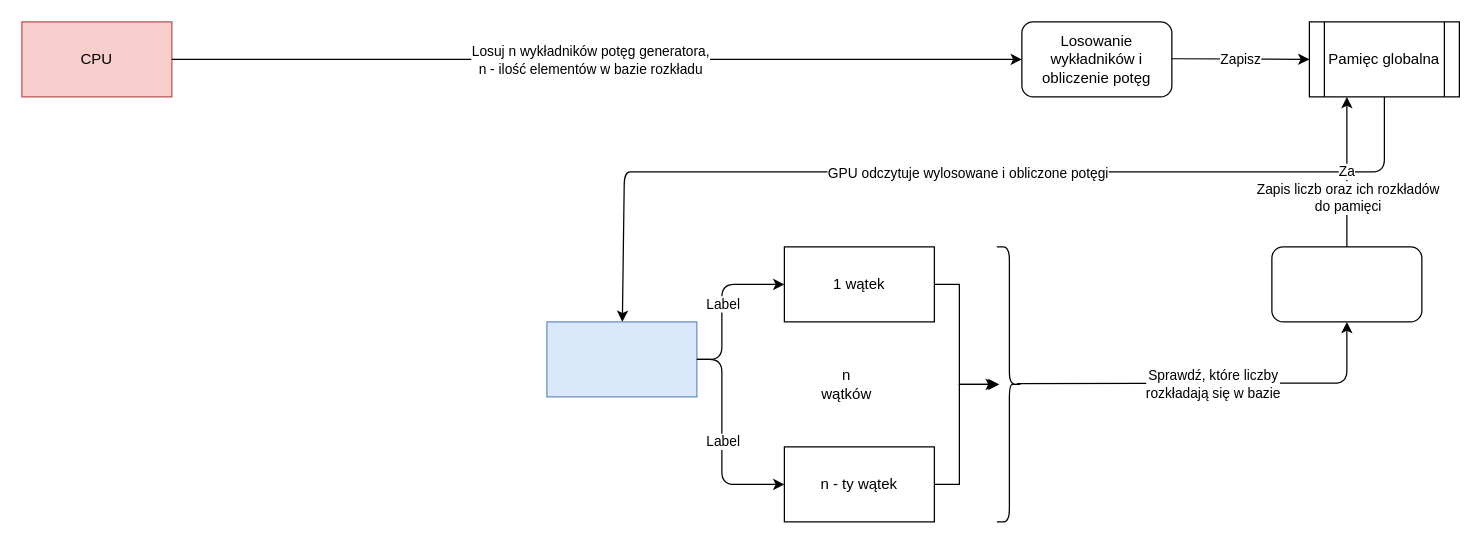
The diagram is 1481 pixels wide and 544 high, and some of its shapes have lost their labels. Each missing label, with the box of its shape:
GPU: (546, 321, 697, 397)
Rozkład liczb w bazie: (1271, 246, 1422, 322)
